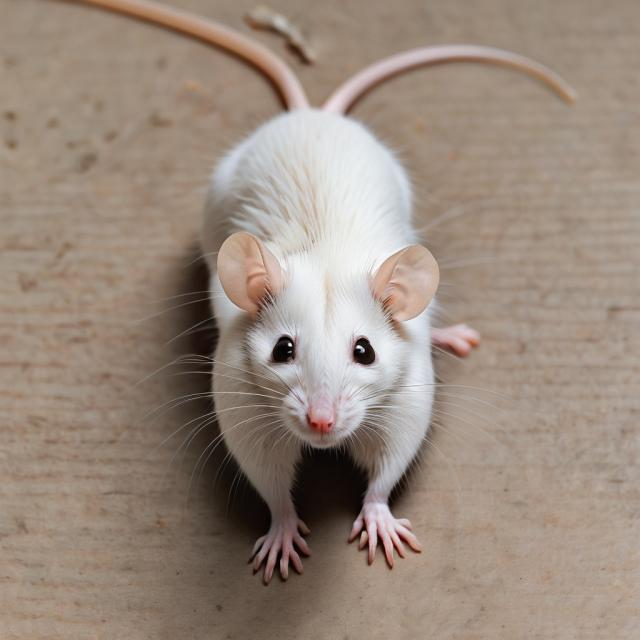rodents: (180, 99, 475, 557)
